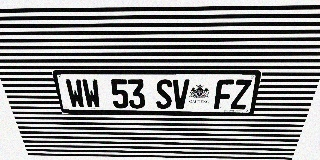3: (127, 79, 145, 109)
5: (110, 79, 129, 108)
F: (214, 79, 234, 109)
S: (156, 79, 172, 109)
V: (172, 79, 190, 109)
W: (65, 79, 86, 108), (81, 79, 102, 108)
Z: (230, 79, 252, 109)
